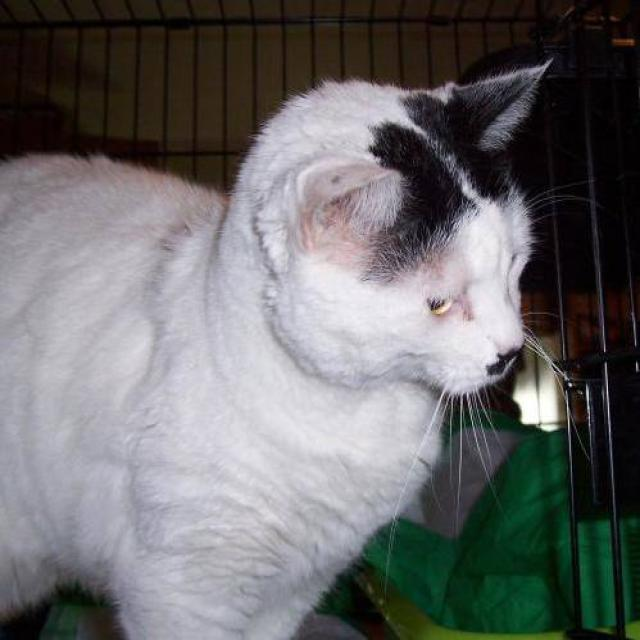cat: (0, 51, 586, 638)
